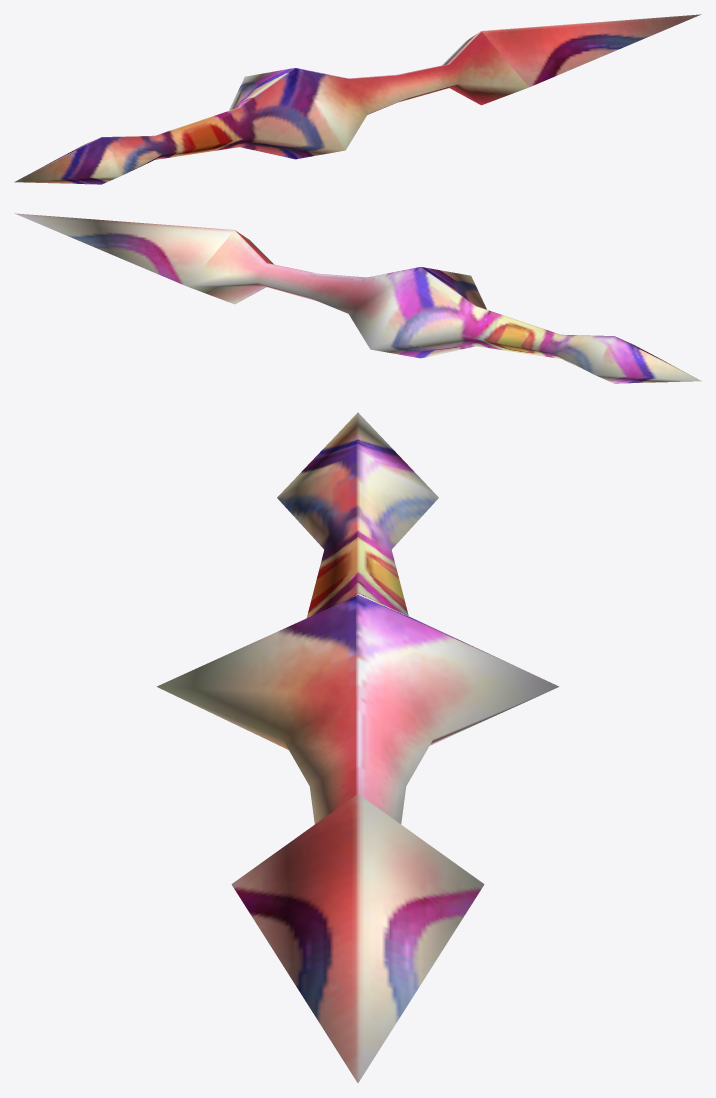
Rendered from item_weaswokehin.glb.
3 renders of one model, top to bottom at view 1: azimuth 30°, elevation 25°; view 2: azimuth 150°, elevation 25°; view 3: azimuth 270°, elevation 25°, orthographic. The views are drawn at different scales.
Parts seen in each view (by area): view 1: item_0; view 2: item_0; view 3: item_0.
Boxes of the visible parts, <box> form: item_0: <box>14,14,701,184</box>; item_0: <box>14,213,701,383</box>; item_0: <box>157,412,559,1082</box>.
Size of the model in its own units: 1.16 by 0.1475 by 0.2942.
Materials: 1 (1 with a texture image).
